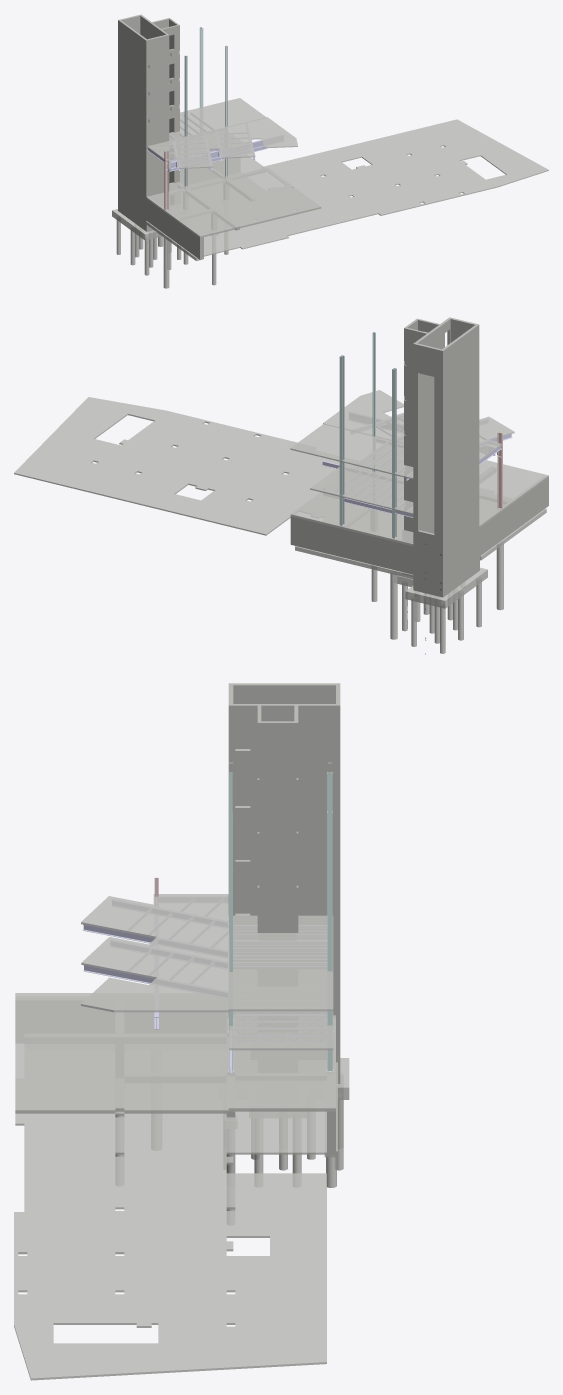
File: ISSUE-005-context.glb
3 renders of one model, top to bottom at view 1: azimuth 30°, elevation 25°; view 2: azimuth 150°, elevation 25°; view 3: azimuth 270°, elevation 25°, orthographic. The views are drawn at different scales.
Parts seen in each view (by area): view 1: 4738, 3831, 3051, 3792, 3048, 3871, 3198, 5711, 5710, 3050, 3948, 3290 (+4 smaller); view 2: 4738, 3051, 3831, 3050, 3934, 3871, 3792, 3049, 3420, 3198, 3029, 5710 (+10 smaller); view 3: 4738, 3831, 3792 (×2), 3049, 3871, 3030, 3047, 3051, 3420, 3290, 3029.
Boxes of the visible parts, x1,y1,x2,y2 form: 4738: [204, 119, 548, 256]; 3831: [146, 157, 321, 237]; 3051: [119, 20, 148, 196]; 3792: [147, 117, 297, 167]; 3048: [147, 34, 167, 196]; 3871: [169, 98, 265, 140]; 3198: [146, 199, 203, 259]; 5711: [161, 25, 179, 182]; 5710: [120, 178, 150, 231]; 3050: [118, 15, 140, 176]; 3948: [112, 209, 161, 240]; 3290: [199, 27, 203, 108]; 4738: [14, 397, 353, 535]; 3051: [442, 324, 479, 551]; 3831: [290, 460, 548, 546]; 3050: [415, 343, 444, 552]; 3934: [290, 516, 413, 574]; 3871: [290, 423, 413, 478]; 3792: [323, 390, 514, 459]; 3049: [413, 334, 429, 590]; 3420: [310, 463, 413, 513]; 3198: [480, 477, 548, 555]; 3029: [404, 327, 427, 531]; 5710: [446, 525, 479, 594]; 4738: [14, 1111, 326, 1380]; 3831: [15, 993, 335, 1113]; 3792 (×2): [81, 894, 228, 1012]; 3049: [298, 704, 340, 1083]; 3871: [228, 915, 333, 1009]; 3030: [257, 721, 294, 932]; 3047: [228, 704, 257, 1014]; 3051: [228, 683, 335, 913]; 3420: [229, 1011, 333, 1048]; 3290: [327, 811, 332, 1071]; 3029: [294, 705, 298, 932].
Size of the model in its own units: 63.31 by 35 by 36.63.
